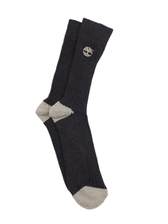sock: (33, 16, 117, 211)
